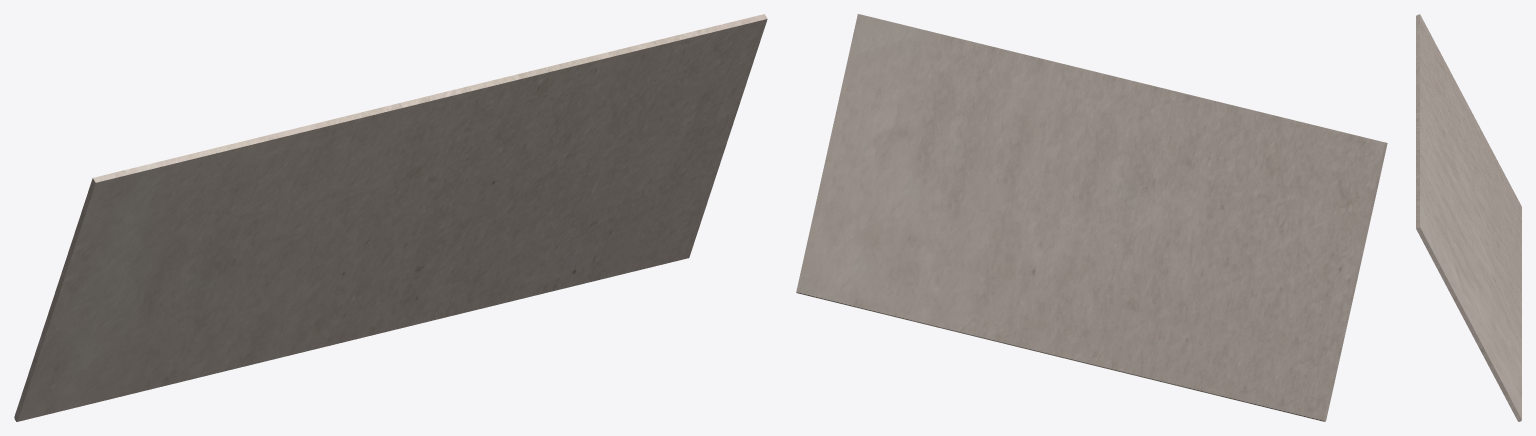
The model's file is MeshBox_20_FlapOuter_1_1.obj.
The picture shows the model from 3 angles, left to right: view 1: azimuth 30°, elevation 25°; view 2: azimuth 150°, elevation 25°; view 3: azimuth 270°, elevation 25°; orthographic projection. The views are drawn at different scales.
Visible parts, largest first — view 1: Box_20_FlapOuter_1; view 2: Box_20_FlapOuter_1; view 3: Box_20_FlapOuter_1.
Boxes of the visible parts, x1=… form: Box_20_FlapOuter_1: x1=14, y1=14, x2=767, y2=421; Box_20_FlapOuter_1: x1=796, y1=14, x2=1387, y2=421; Box_20_FlapOuter_1: x1=1416, y1=14, x2=1521, y2=421.
Bounding box in the file's own units: 0.2548 × 0.1086 × 0.0535.
1 material, 1 textured.
